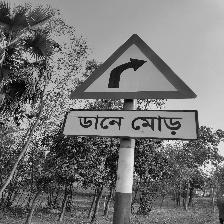Right-turn: (66, 34, 200, 140)
